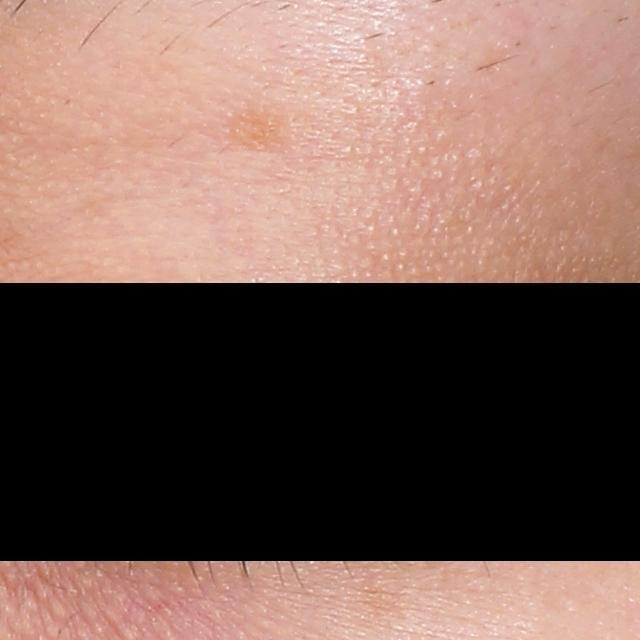melasma: (227, 109, 293, 151)
